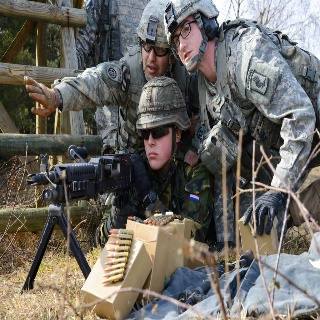rifle: (20, 142, 146, 294)
